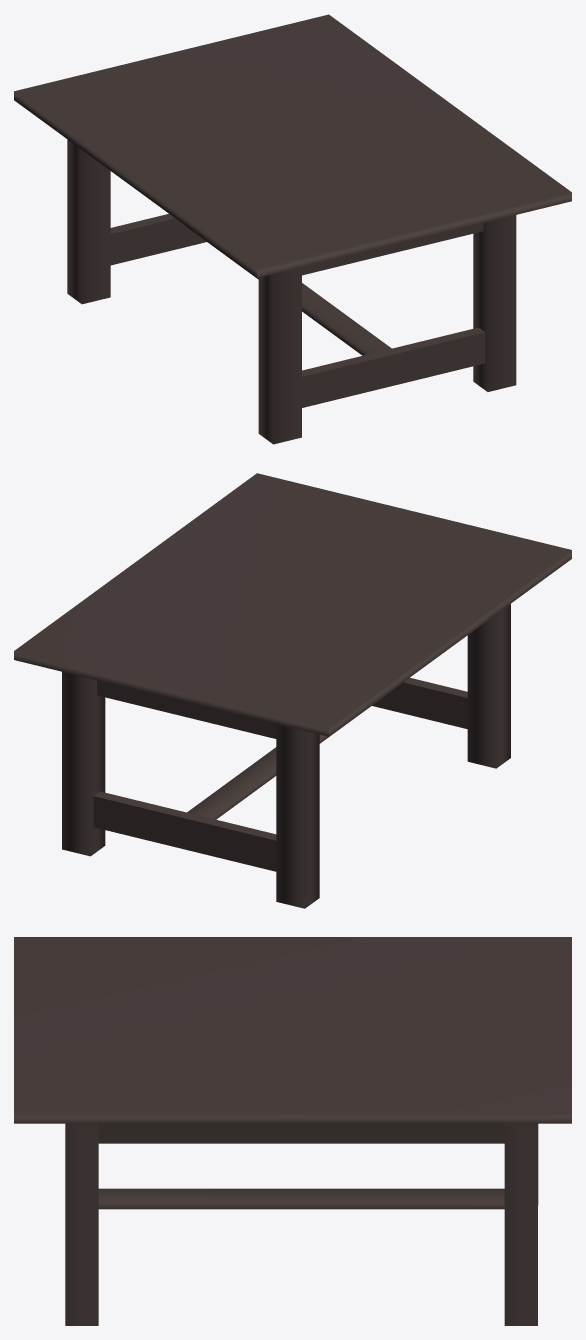
File: Table.dae
3 views of the same model, one above another, from view 1: azimuth 30°, elevation 25°; view 2: azimuth 150°, elevation 25°; view 3: azimuth 270°, elevation 25° (orthographic). The views are drawn at different scales.
Visible parts, largest first — view 1: polySurface27; view 2: polySurface27; view 3: polySurface27.
Boxes of the visible parts, <box> form: polySurface27: <box>14,14,571,444</box>; polySurface27: <box>14,473,571,908</box>; polySurface27: <box>14,937,571,1325</box>.
Size of the model in its own units: 3.67 by 4.91 by 2.24.
1 material, 1 textured.
